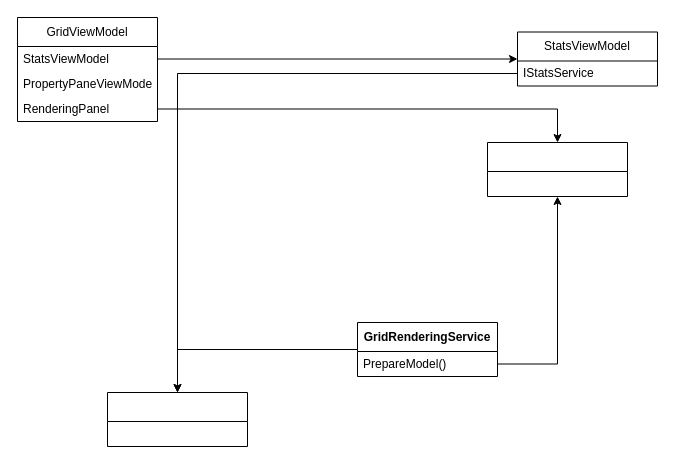
The diagram is 675 pixels wide and 464 high, and some of its shapes have lost their labels. The centre of each missing label's shape, as x and y in pixels:
"GridModel" goes at [177,419].
"IGraphicsElement" goes at [557,169].
